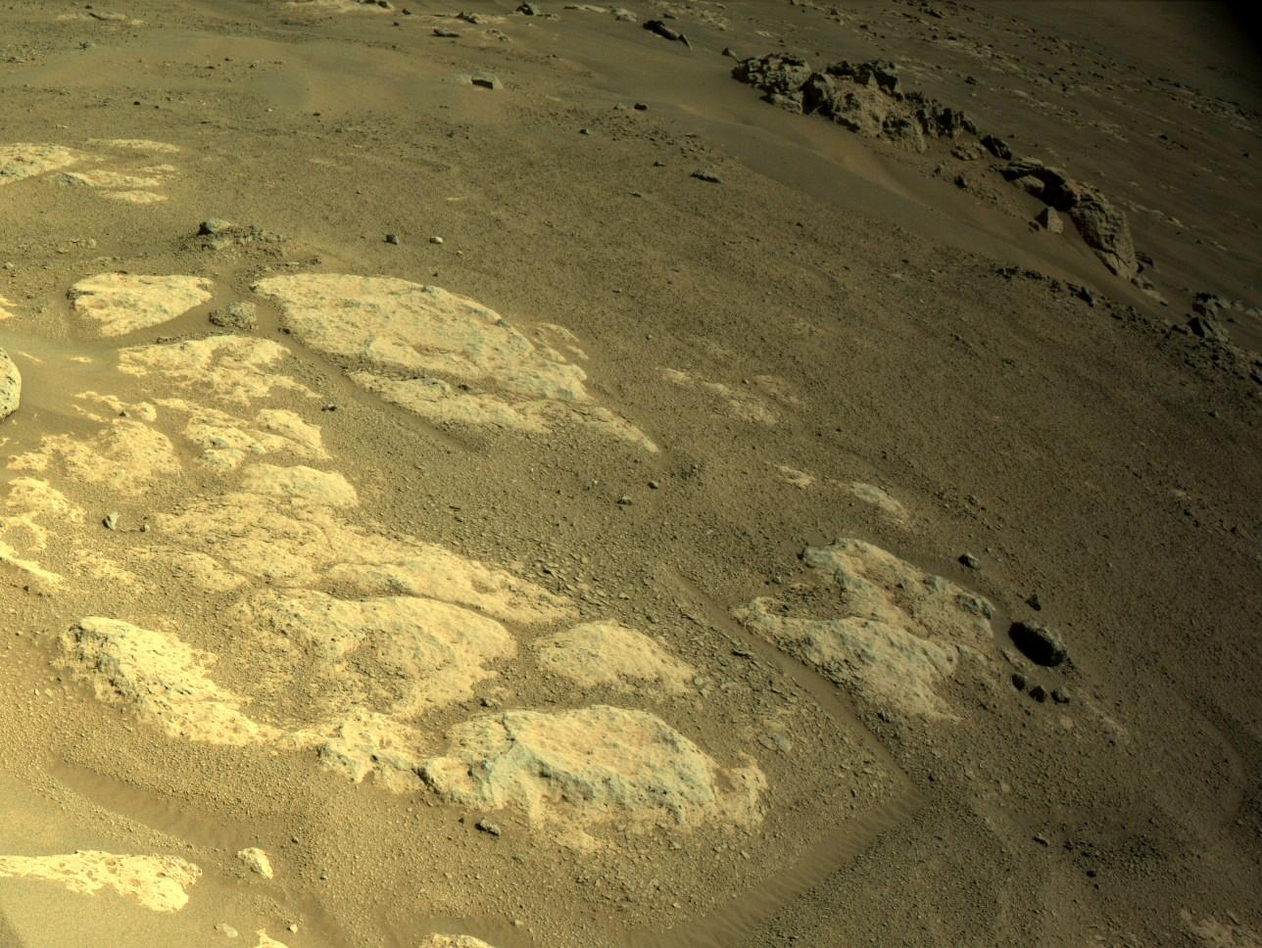bedrock: (3, 115, 1082, 947), (490, 6, 1256, 265), (1102, 698, 1113, 713), (1032, 578, 1042, 593), (704, 898, 716, 901), (768, 907, 780, 908)
big_rock: (637, 16, 1146, 276), (1167, 291, 1256, 373), (1159, 332, 1185, 341)
sand: (6, 3, 1119, 302), (627, 34, 753, 93), (284, 5, 498, 11), (25, 116, 33, 125), (571, 19, 581, 23), (616, 29, 626, 30), (1254, 379, 1256, 382)
soil: (51, 94, 1261, 946), (1247, 138, 1255, 292), (1180, 277, 1217, 294), (16, 96, 37, 116), (891, 927, 912, 940), (222, 160, 252, 168), (1251, 372, 1253, 378), (1203, 354, 1206, 355)
